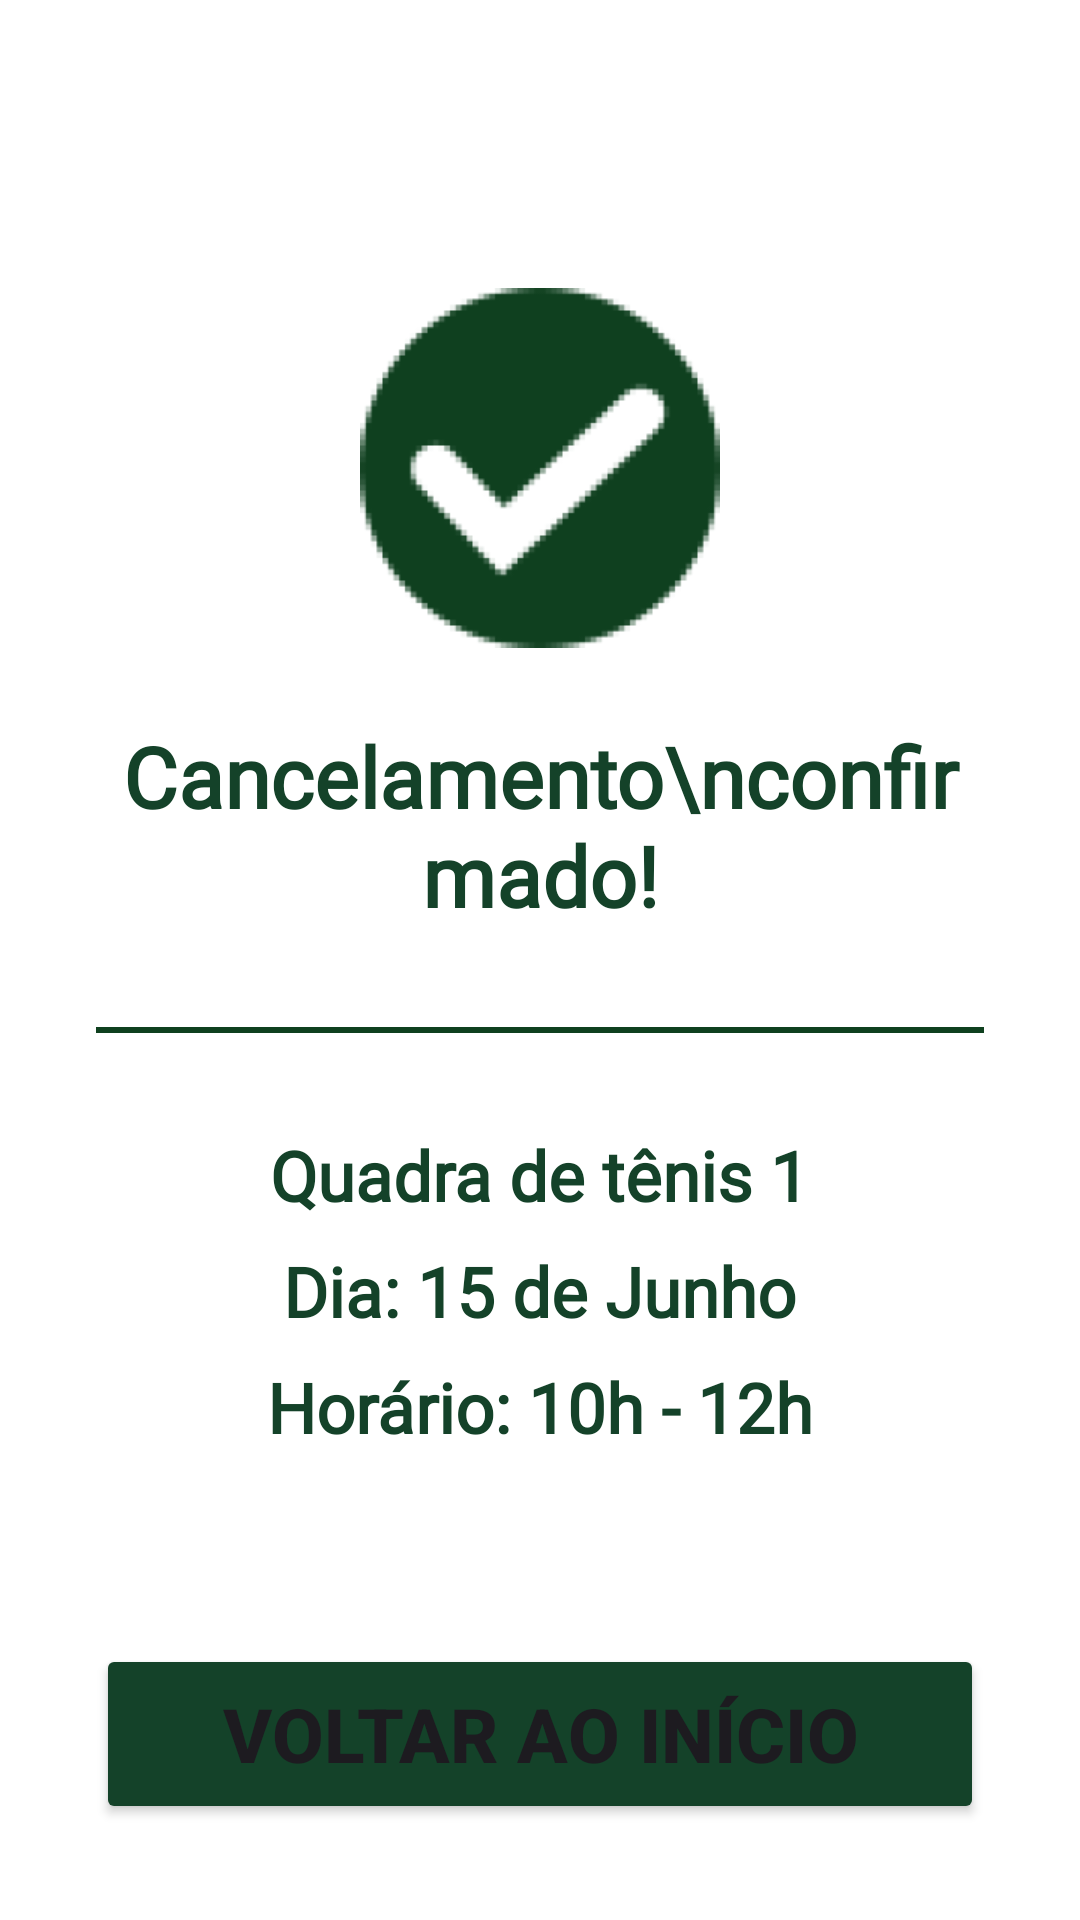

Where icons sit on this 1080px×1920px app screen, as [x1, y1, x2, y2]:
check: [360, 288, 720, 648]
